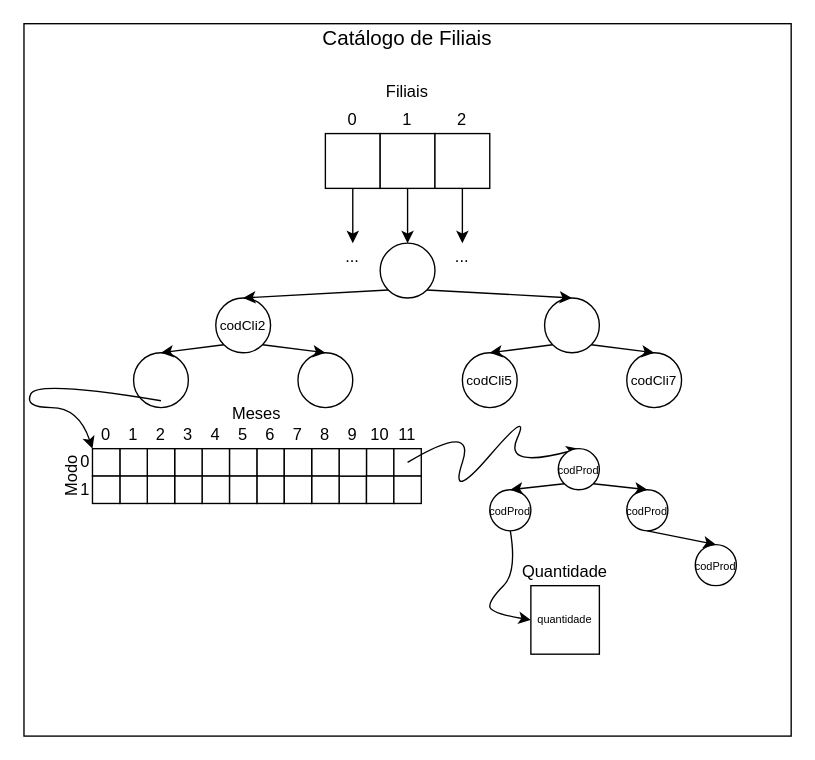
The diagram is 815 pixels wide and 760 high, and some of its shapes have lost their labels. The centre of each missing label's shape, as x and y in pixels:
codCli1: point 160,379
codCli3: point 325,379
codCli4: point 407,270
codCli6: point 571,325
